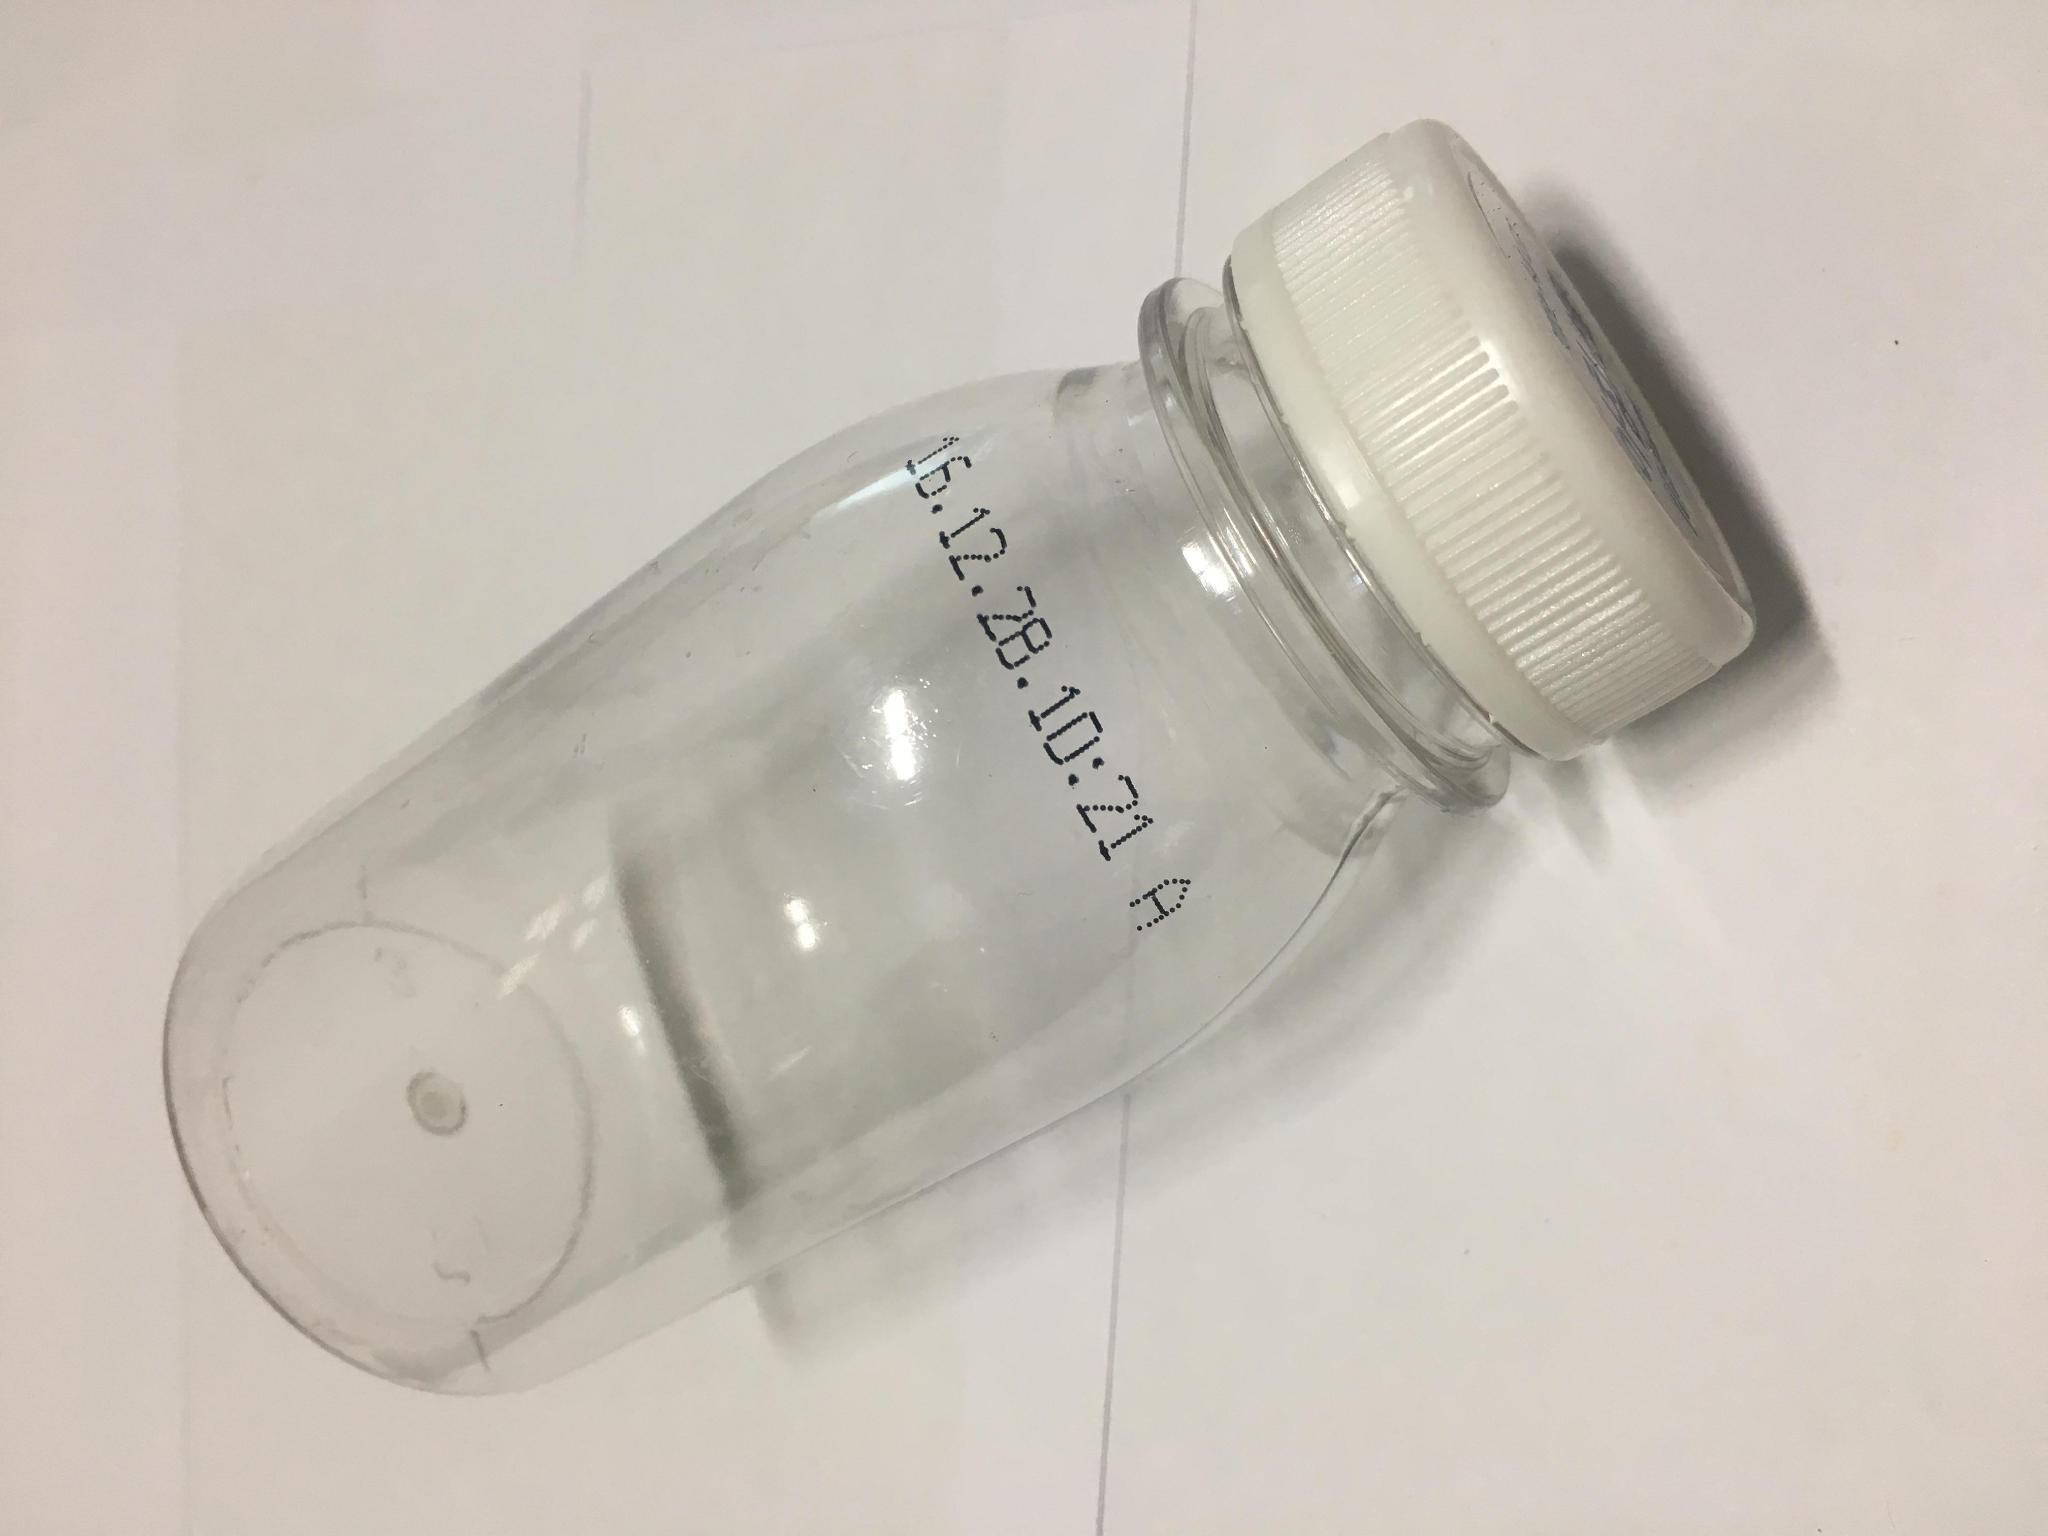bottle: (141, 131, 1797, 1415)
